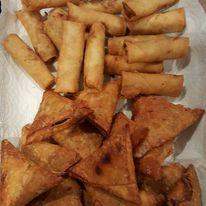samosa: (0, 86, 206, 206)
spring rolls: (1, 0, 200, 96)
